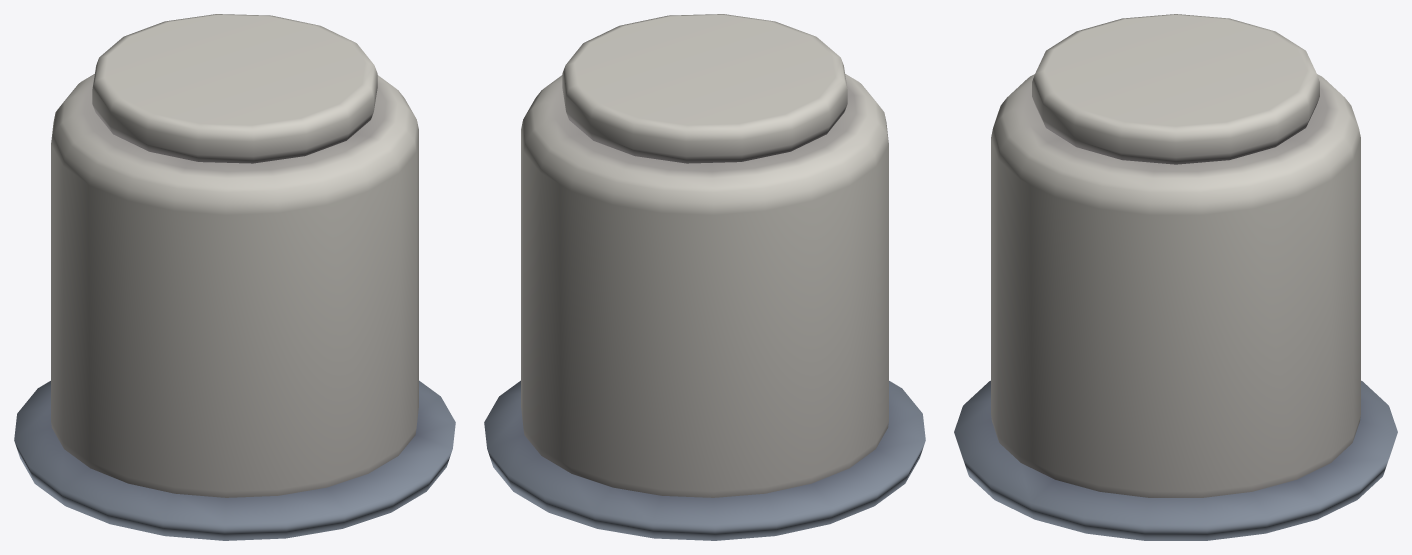
File: light_can__326.glb
3 views of the same model, side by side, from view 1: azimuth 30°, elevation 25°; view 2: azimuth 150°, elevation 25°; view 3: azimuth 270°, elevation 25° (orthographic).
Parts seen in each view (by area): view 1: merged_toon_ffffff, prop_light_can; view 2: merged_toon_ffffff, prop_light_can; view 3: merged_toon_ffffff, prop_light_can.
Boxes of the visible parts, left/top/right/bottom form: merged_toon_ffffff: left=51, top=14, right=418, bottom=497; prop_light_can: left=14, top=380, right=455, bottom=540; merged_toon_ffffff: left=521, top=14, right=888, bottom=497; prop_light_can: left=484, top=380, right=925, bottom=540; merged_toon_ffffff: left=991, top=14, right=1360, bottom=497; prop_light_can: left=954, top=380, right=1397, bottom=540.
Size of the model in its own units: 0.2138 by 0.204 by 0.216.
